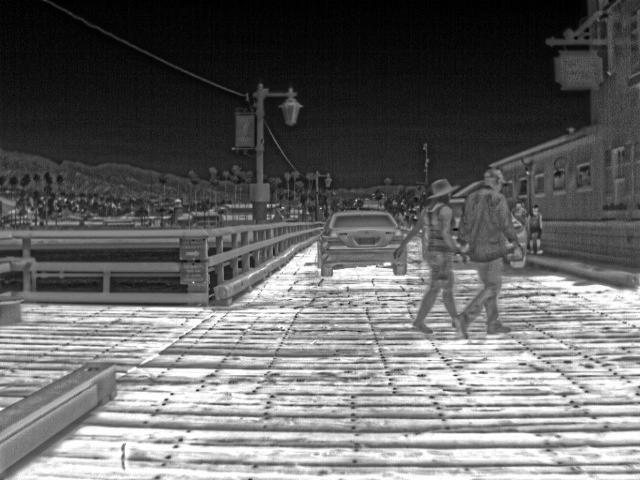car: (322, 209, 408, 277)
person: (451, 166, 517, 337), (391, 177, 459, 332), (526, 204, 547, 255)
